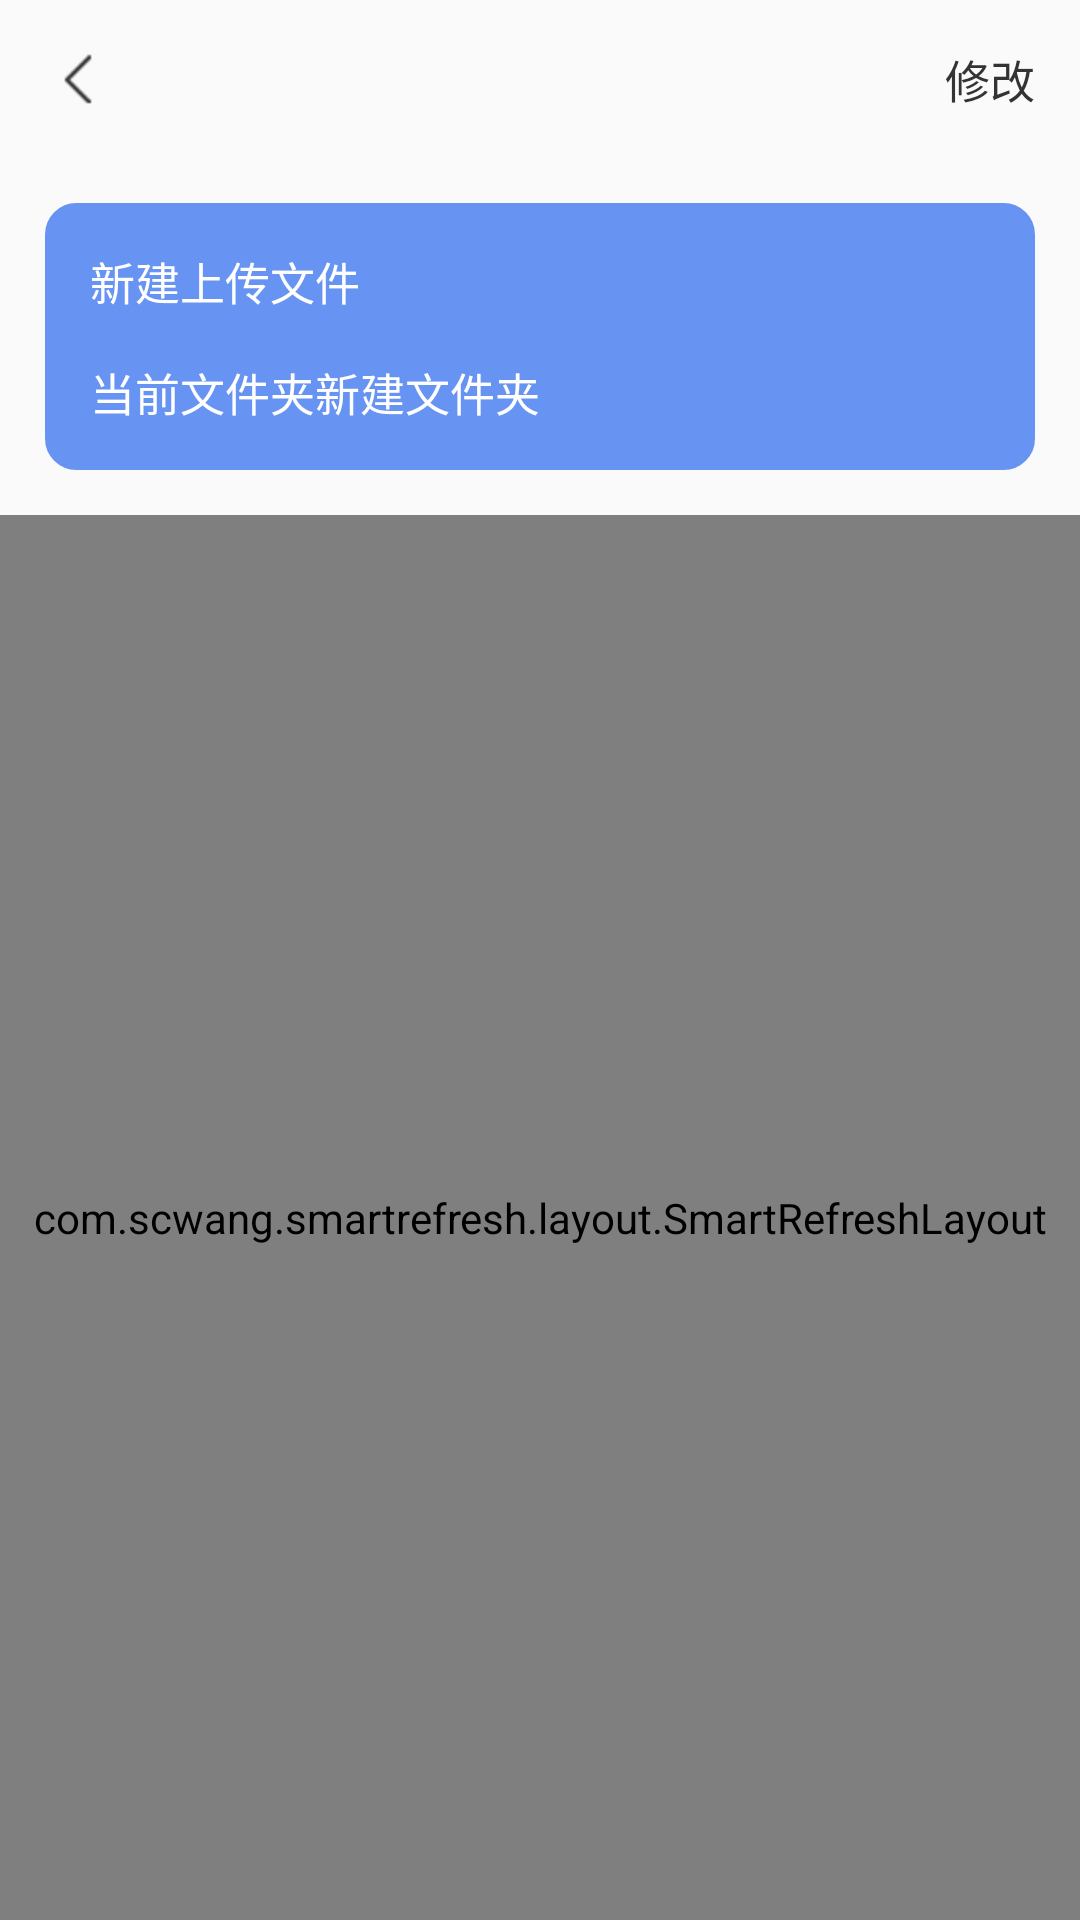

Icons on this 1080*1920 Android screen, each with its box as (x1, y1, x2, y2):
back: (64, 54, 92, 104)
